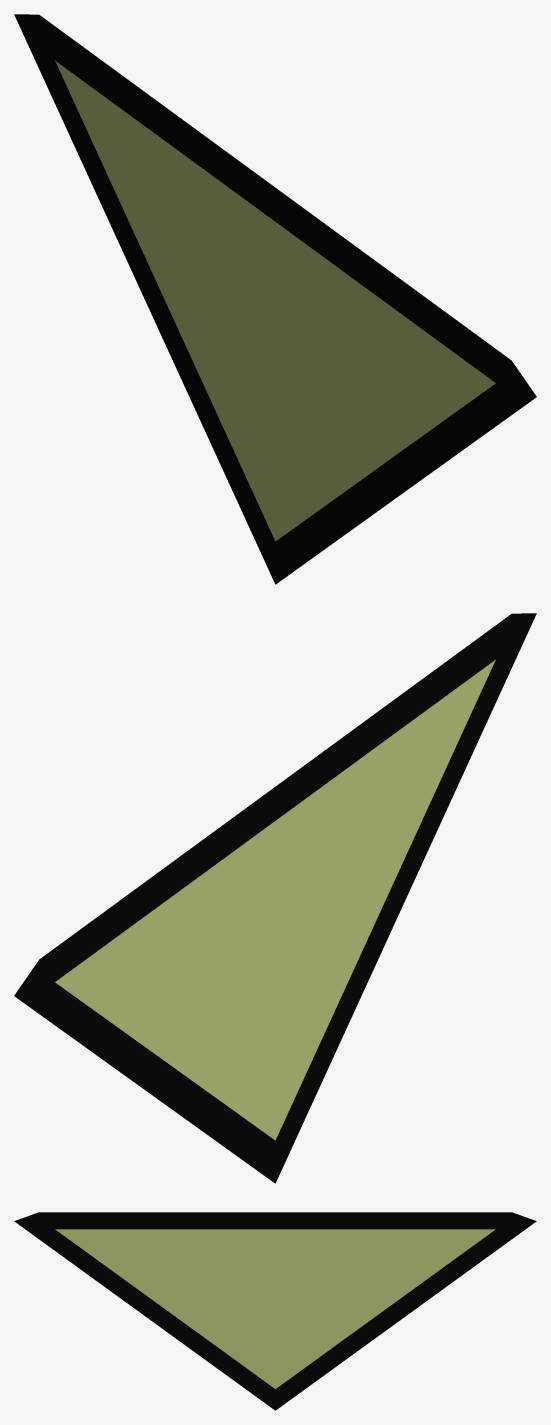
File: InteractionMarker.glb
3 renders of one model, top to bottom at view 1: azimuth 30°, elevation 25°; view 2: azimuth 150°, elevation 25°; view 3: azimuth 270°, elevation 25°, orthographic. The views are drawn at different scales.
Visible parts, largest first — view 1: Plane; view 2: Plane; view 3: Plane.
Part boxes in pixels (x1,y1,x2,y2): Plane: (14, 14, 536, 584); Plane: (14, 613, 536, 1183); Plane: (14, 1212, 536, 1410).
Bounding box in the file's own units: 8.95e-08 × 0.2484 × 0.5928.
